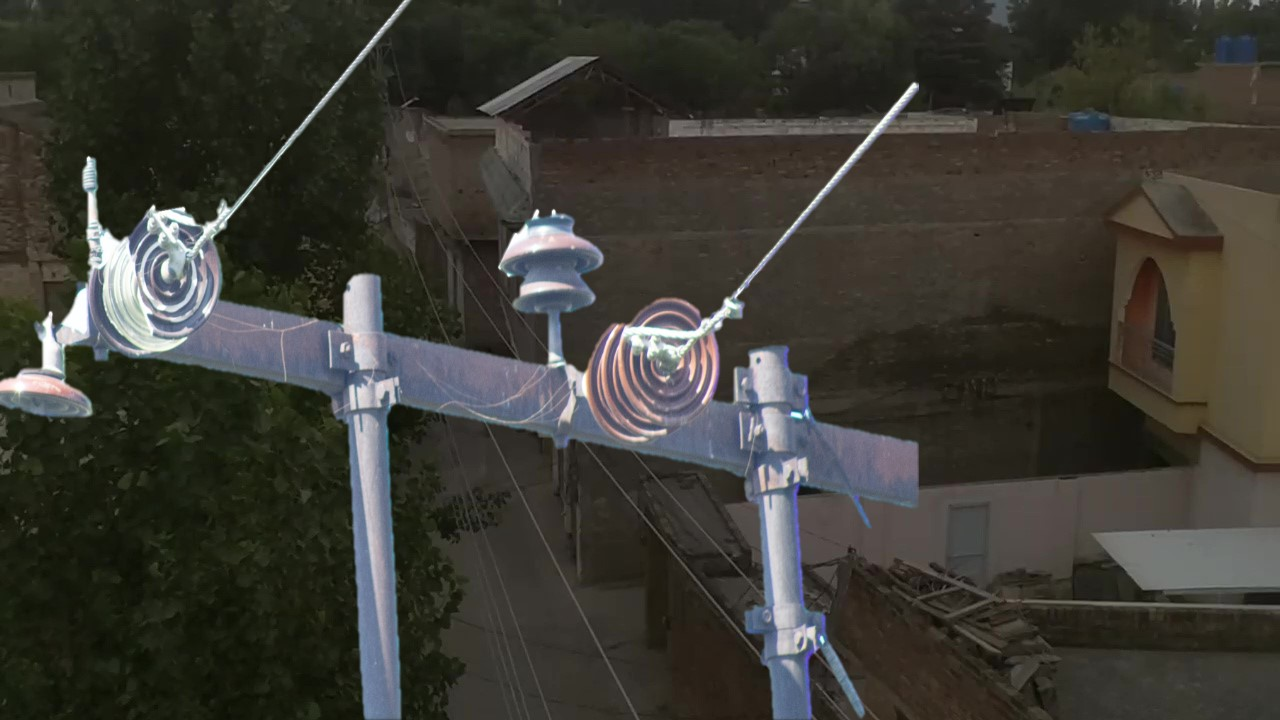defect_disc: (118, 200, 229, 342)
insulator_disc: (614, 288, 726, 430), (11, 361, 96, 430)
